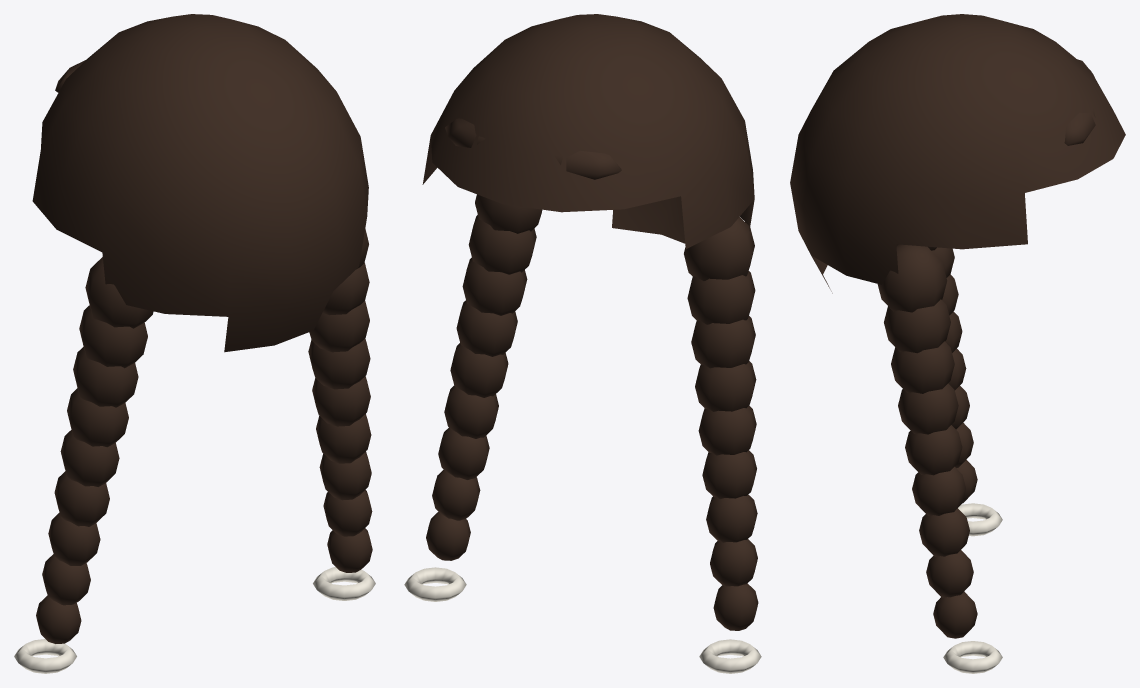
File: hair_6.glb
The picture shows the model from 3 angles, left to right: view 1: azimuth 30°, elevation 25°; view 2: azimuth 150°, elevation 25°; view 3: azimuth 270°, elevation 25°; orthographic projection. The views are drawn at different scales.
Visible parts, largest first — view 1: Head; view 2: Head; view 3: Head.
Boxes of the visible parts, box(x1,y1,x2,y2) form: Head: box(14, 14, 375, 673); Head: box(404, 14, 761, 673); Head: box(790, 14, 1125, 673).
Bounding box in the file's own units: 0.284 × 0.4629 × 0.2476.
